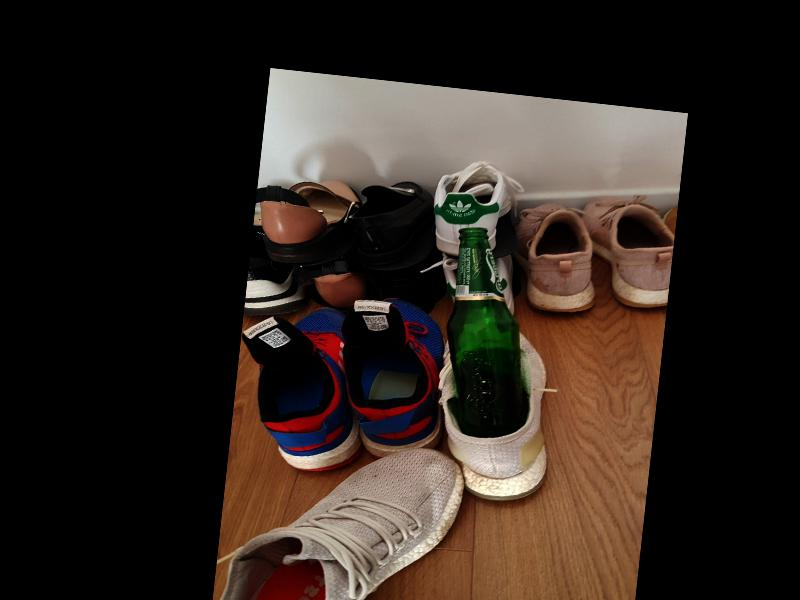Beer: (434, 227, 544, 441)
